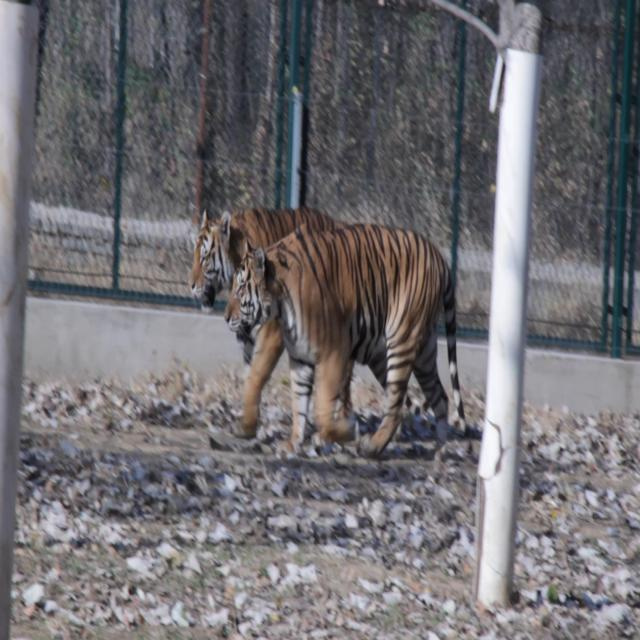Tiger: (223, 221, 480, 457), (173, 187, 346, 308)
